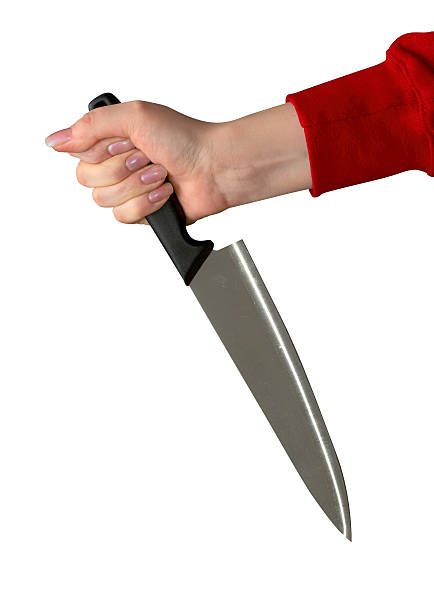knife: (179, 235, 355, 550)
